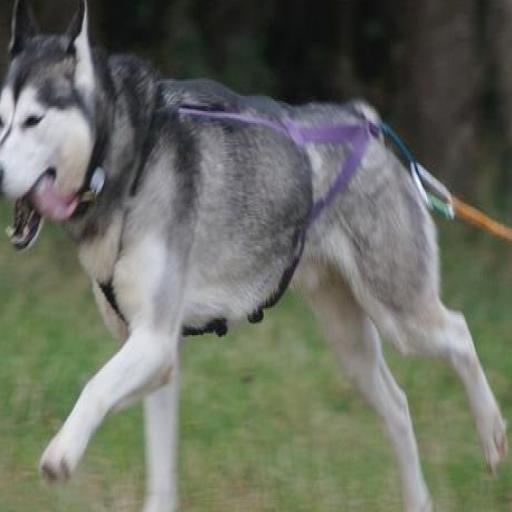dog_face: (0, 0, 102, 251)
